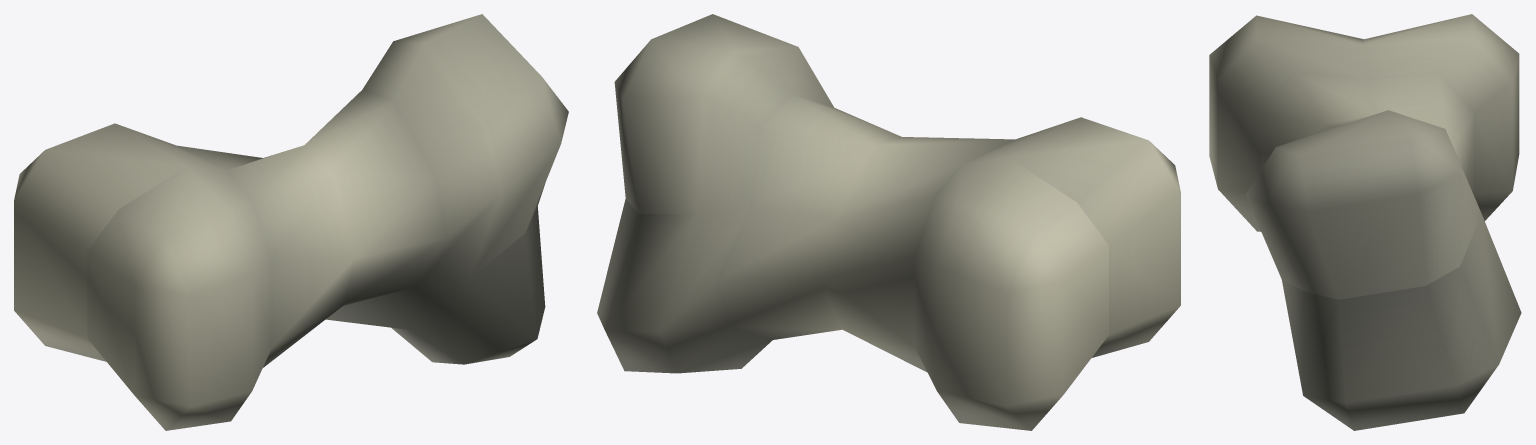
Rendered from deco_bone_1.fbx.
The picture shows the model from 3 angles, left to right: view 1: azimuth 30°, elevation 25°; view 2: azimuth 150°, elevation 25°; view 3: azimuth 270°, elevation 25°; orthographic projection. The views are drawn at different scales.
Visible parts, largest first — view 1: deco_bone_1; view 2: deco_bone_1; view 3: deco_bone_1.
Boxes of the visible parts, left/top/right/bottom form: deco_bone_1: left=14, top=14, right=568, bottom=430; deco_bone_1: left=597, top=14, right=1180, bottom=430; deco_bone_1: left=1209, top=14, right=1521, bottom=430.
Bounding box in the file's own units: 43.82 × 28.73 × 27.64.
